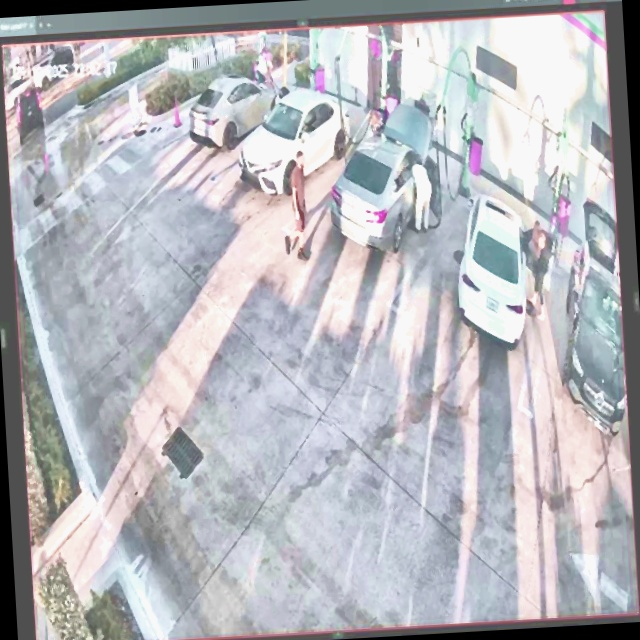Car: (325, 103, 443, 253), (452, 189, 559, 348), (240, 88, 355, 193), (185, 71, 282, 152)
